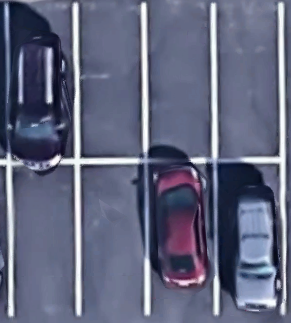Occupied: (7, 2, 77, 161), (146, 160, 217, 316), (215, 160, 283, 315)
Vacant: (76, 3, 146, 163), (144, 4, 215, 161), (8, 161, 79, 317), (213, 4, 283, 160), (77, 163, 147, 317)
